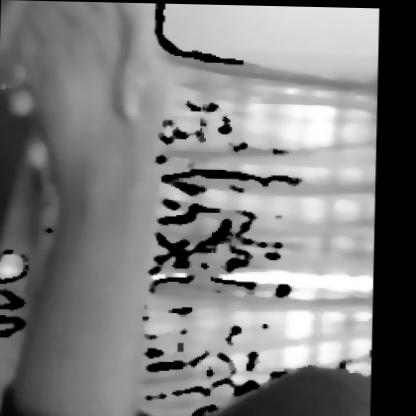handshake: (0, 0, 210, 415)
